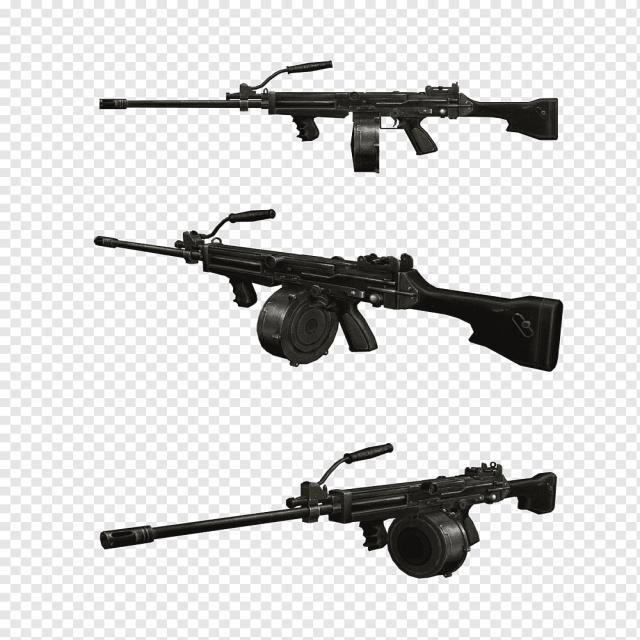weapon: (91, 208, 565, 372), (97, 442, 560, 580), (98, 60, 561, 174)
